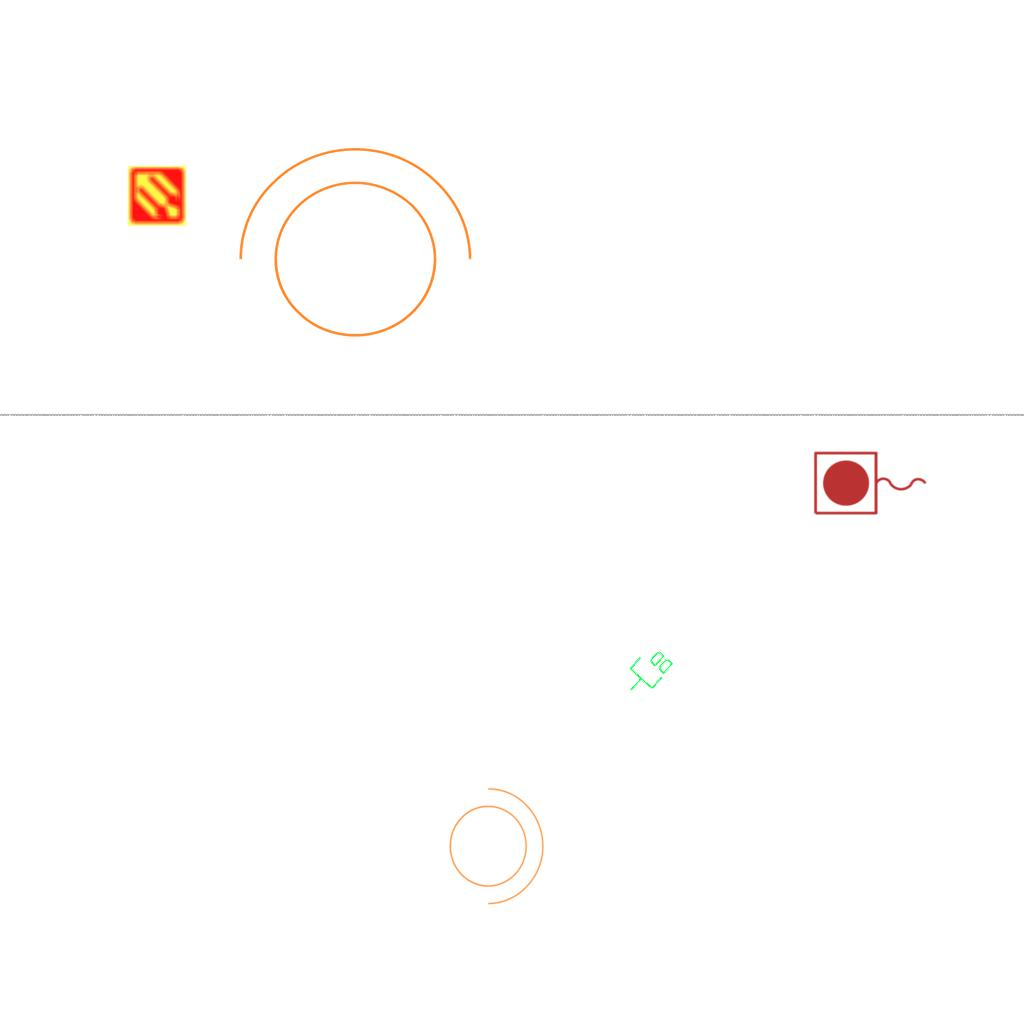ASR_Ansaugrauchmelder: (126, 165, 188, 227)
Datenanschluss_zweifach: (617, 641, 678, 703)
Scheinwerfer_fuer_Alarmbeleuchtung: (217, 137, 481, 362), (437, 777, 549, 909)
Zugtaster: (810, 448, 932, 520)
